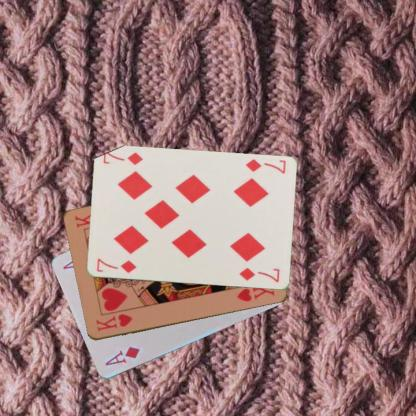7d: (94, 256, 138, 274), (242, 157, 286, 175)
Ad: (102, 344, 142, 367)
Kh: (93, 312, 133, 334)
